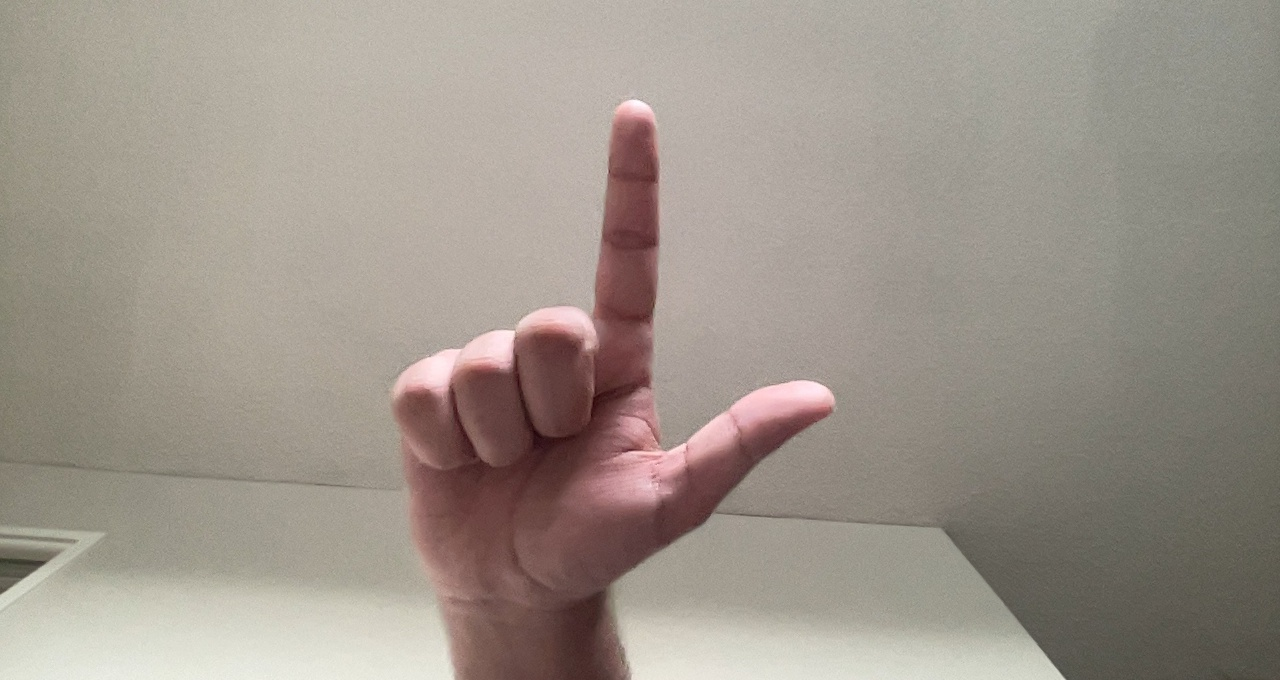L: (375, 89, 841, 631)
